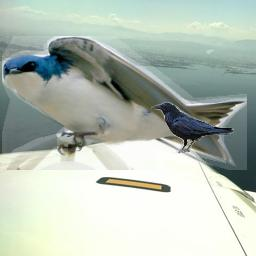Crow: (151, 102, 234, 155)
Swallow: (2, 36, 247, 170)
